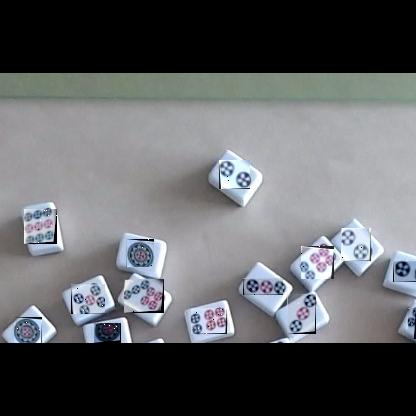1p: (126, 239, 154, 267), (14, 317, 42, 343), (94, 323, 121, 343)
2p: (341, 228, 371, 261), (219, 160, 250, 189), (393, 261, 416, 282)
3p: (287, 294, 316, 334), (243, 278, 283, 295)
5p: (71, 284, 105, 314)
6p: (301, 246, 334, 279), (191, 308, 227, 334)
7p: (124, 279, 164, 313)
8p: (408, 308, 416, 339)
9p: (24, 209, 57, 244)
